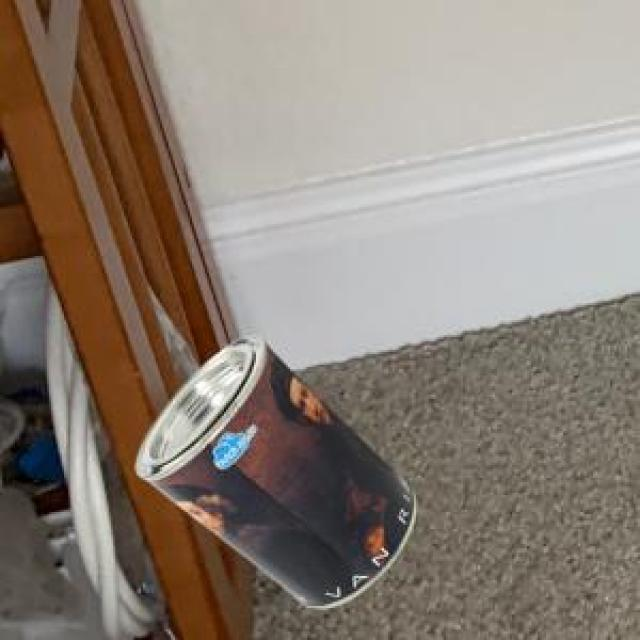logam: (133, 332, 413, 605)
